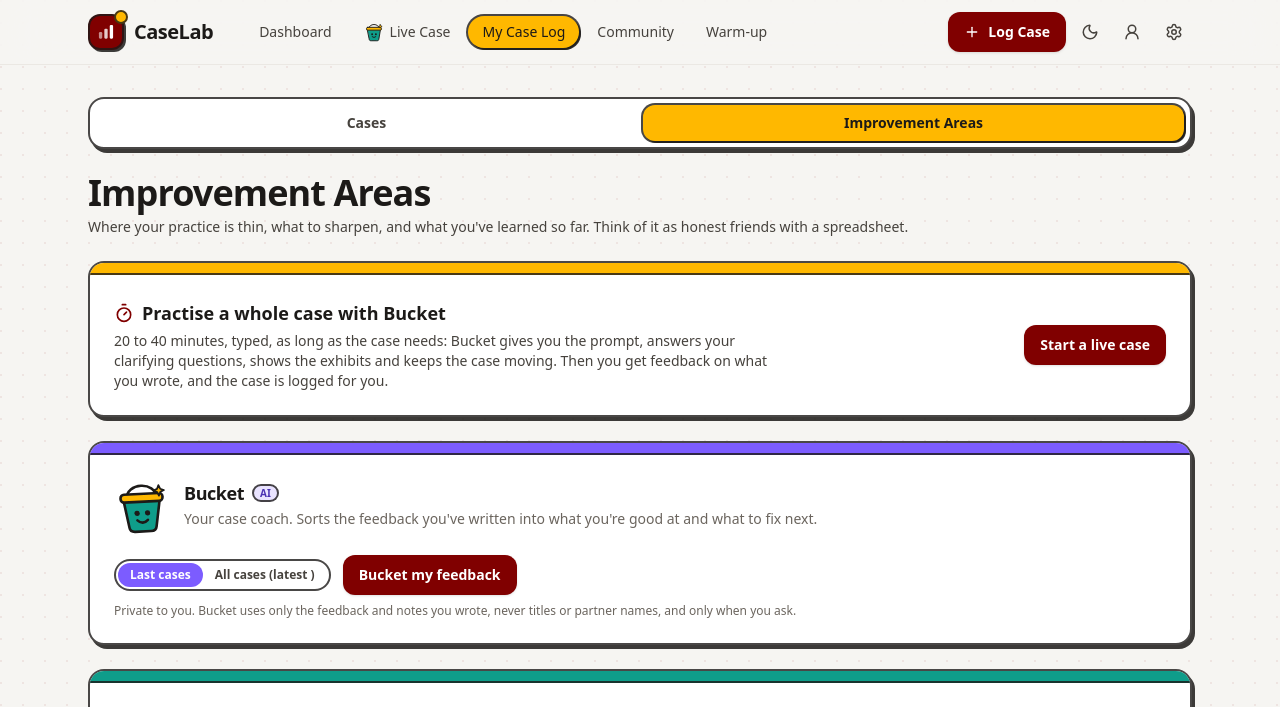
Test: Bucket, the coach › reads on a click and shows the summary, where you are strong, and what to work on with the skill and a next step
expect the heading "Improvement Areas" is shown: met, box [88,168,430,217]
Click the button "Bucket my feedback" at (430,575), box [343,555,517,595]
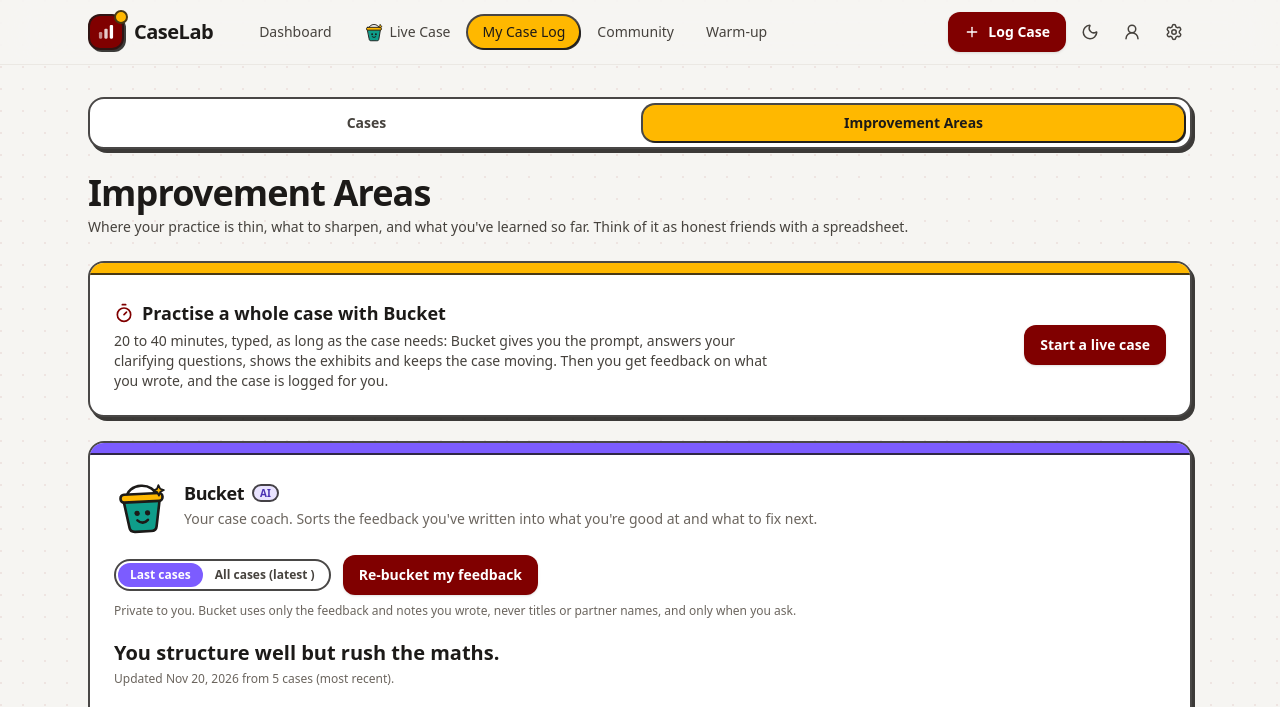
expect the button "Re-bucket my feedback" is enabled: met, box [343,555,538,595]
expect the text "You structure well but rush the maths." is shown: met, box [114,639,499,666]
expect the text "Updated Nov 20, 2026 from 5 cases (most recent)." is shown: met, box [114,670,394,686]
